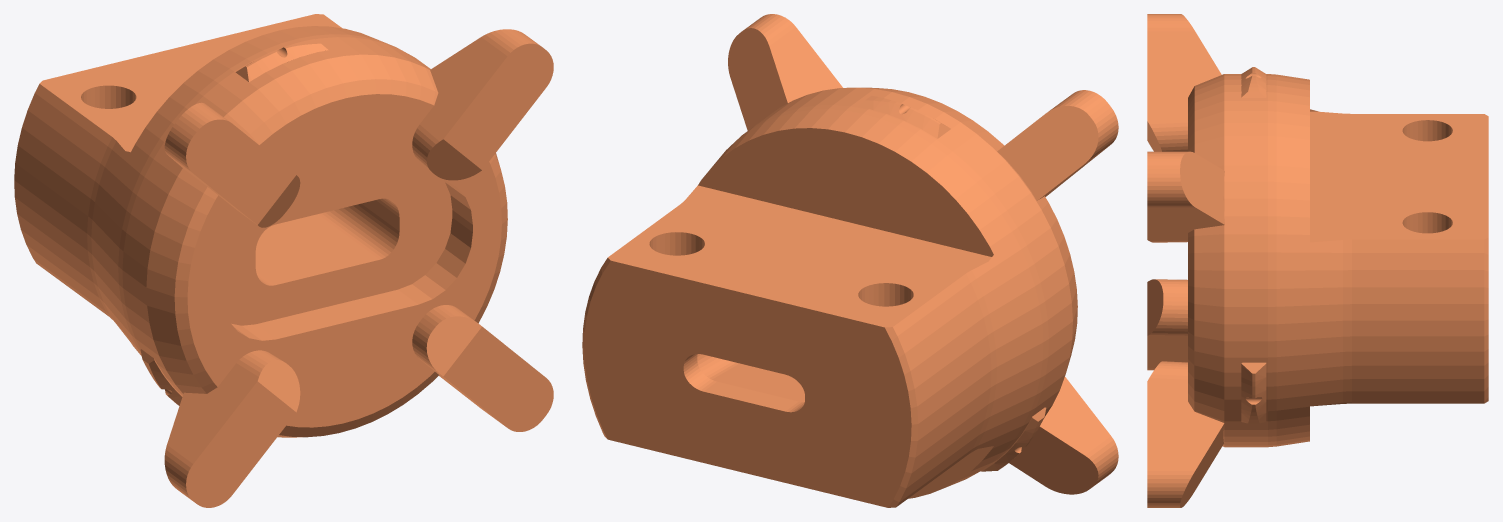
The model's file is Usb_Color.orig.glb.
3 renders of one model, left to right at view 1: azimuth 30°, elevation 25°; view 2: azimuth 150°, elevation 25°; view 3: azimuth 270°, elevation 25°, orthographic. The views are drawn at different scales.
Visible parts, largest first — view 1: Soild_Cap.Base; view 2: Soild_Cap.Base; view 3: Soild_Cap.Base.
Part boxes in pixels (x1,y1,x2,y2): Soild_Cap.Base: (14, 14, 553, 507); Soild_Cap.Base: (582, 14, 1118, 507); Soild_Cap.Base: (1147, 14, 1488, 507).
Bounding box in the file's own units: 24.5 × 24.64 × 21.71.
